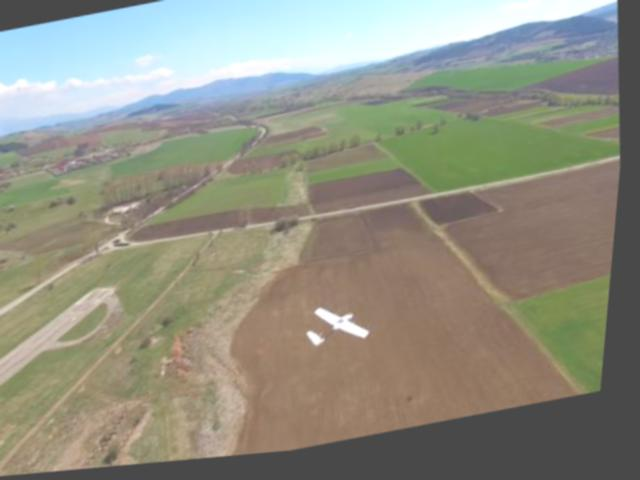uav: (300, 299, 384, 368)
